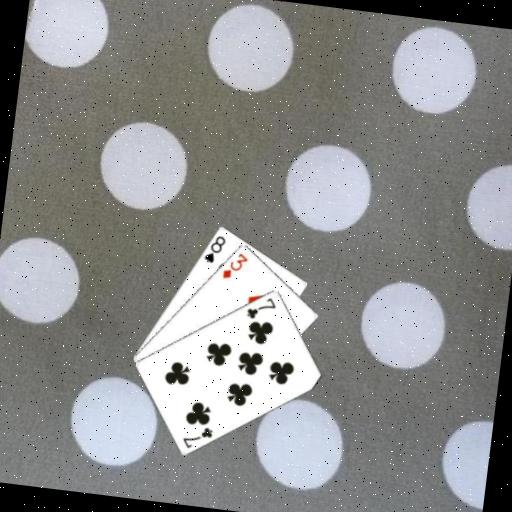3D: (219, 248, 250, 283)
7C: (179, 421, 216, 452), (243, 292, 279, 323)
8S: (200, 231, 228, 266)
